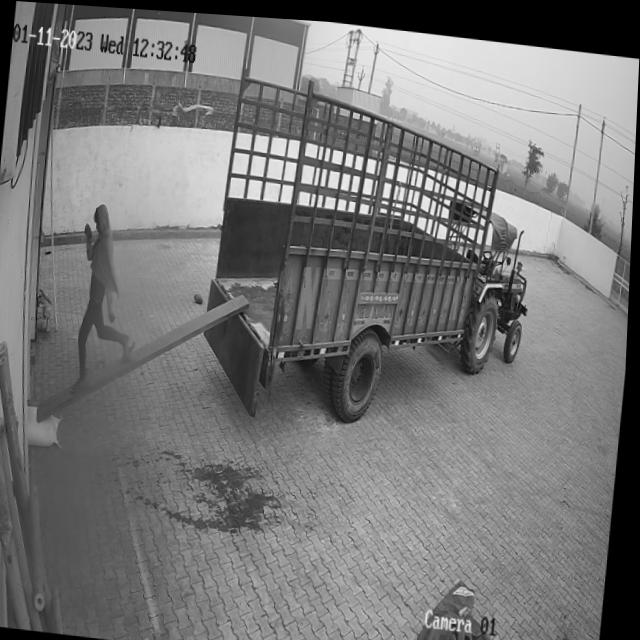sack: (27, 404, 66, 447)
